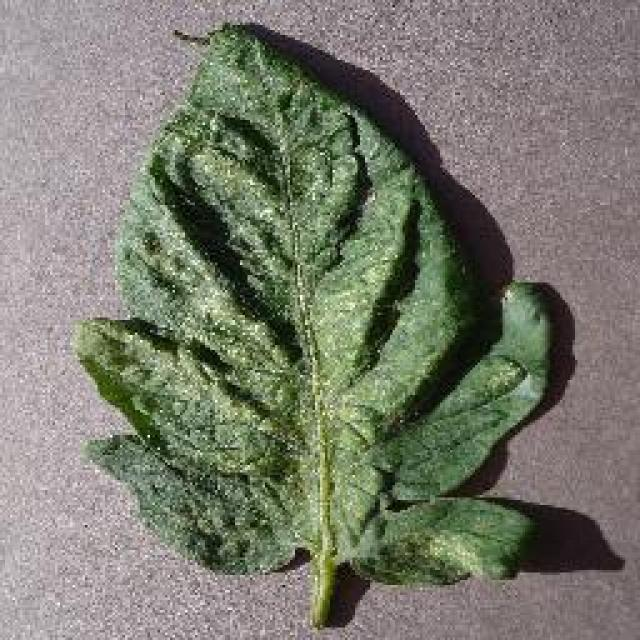Tomato___Spider_mites Two-spotted_spider_mite: (75, 25, 542, 625)
